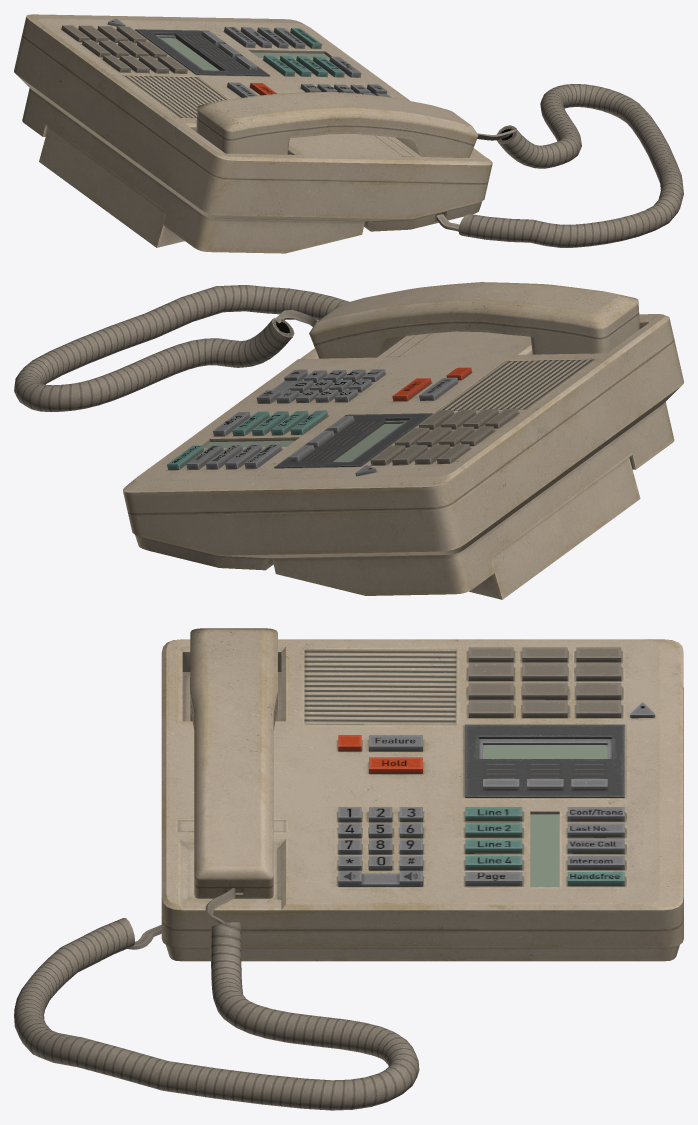
The model's file is phone.obj.
3 renders of one model, top to bottom at view 1: azimuth 30°, elevation 25°; view 2: azimuth 150°, elevation 25°; view 3: azimuth 270°, elevation 25°, orthographic. The views are drawn at different scales.
Visible parts, largest first — view 1: phone, receiver, cord; view 2: phone, receiver, cord; view 3: phone, cord, receiver.
Boxes of the visible parts, x1,y1,x2,y2 form: phone: (14, 14, 492, 253); receiver: (196, 91, 478, 157); cord: (436, 84, 683, 247); phone: (123, 314, 683, 599); receiver: (309, 282, 639, 358); cord: (14, 285, 349, 411); phone: (161, 639, 683, 961); cord: (14, 887, 419, 1110); receiver: (190, 628, 277, 898).
Size of the model in its own units: 36.45 by 10.29 by 32.15.
1 material, 1 textured.
